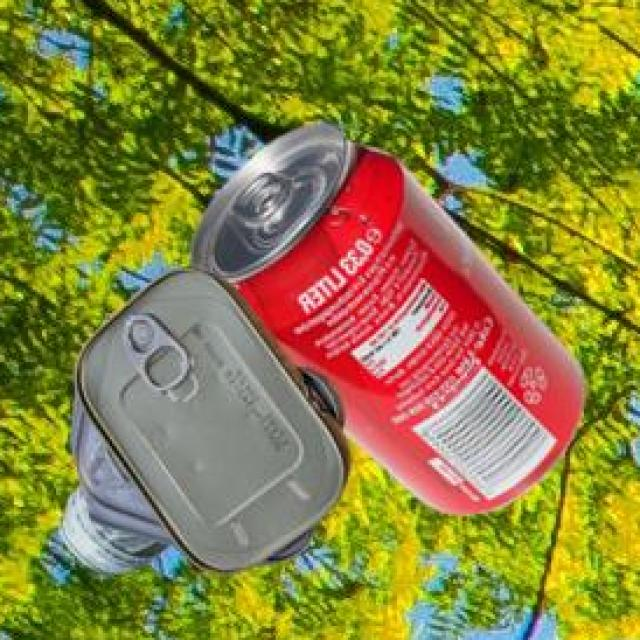logam: (195, 120, 587, 510), (74, 265, 354, 571), (62, 482, 172, 571)
